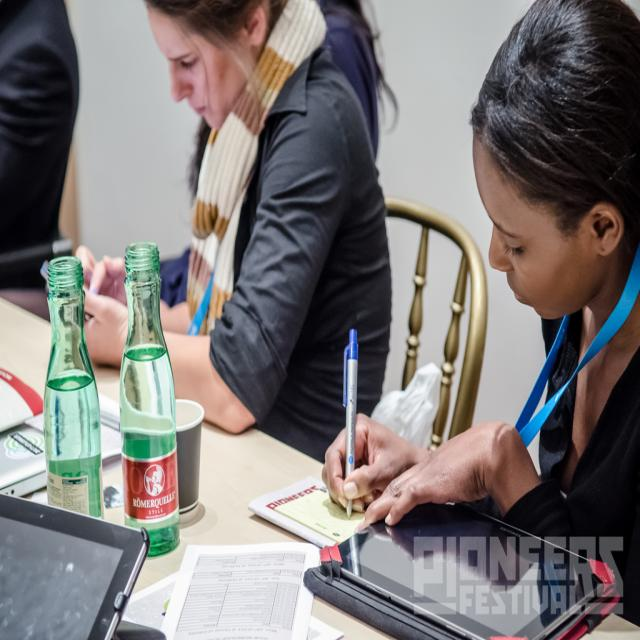pen: (342, 326, 359, 518)
